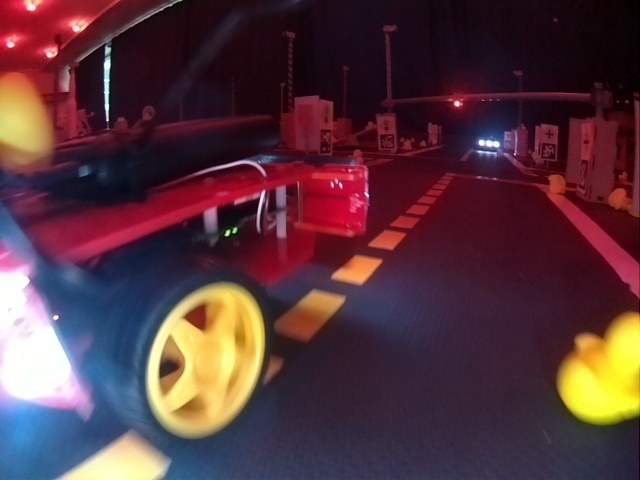Duckie: (557, 314, 639, 425), (1, 70, 56, 173), (609, 190, 629, 209), (549, 177, 564, 195), (403, 141, 412, 151)
Duckiebot: (1, 132, 369, 454), (478, 138, 500, 151)
Intersection sign: (583, 129, 591, 154), (542, 127, 557, 139)
QR code: (578, 160, 588, 192), (320, 129, 332, 152), (541, 143, 557, 160), (381, 133, 395, 149)
Signal sign: (380, 117, 393, 130), (322, 105, 332, 121)
